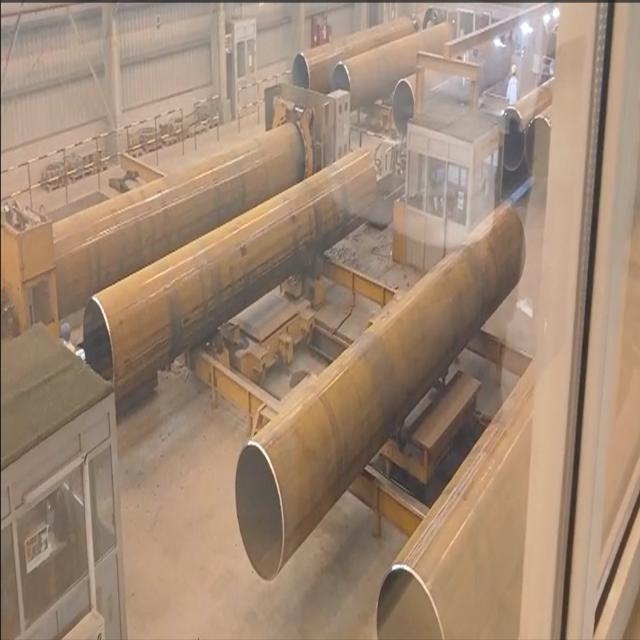warningzone: (184, 252, 400, 424)
